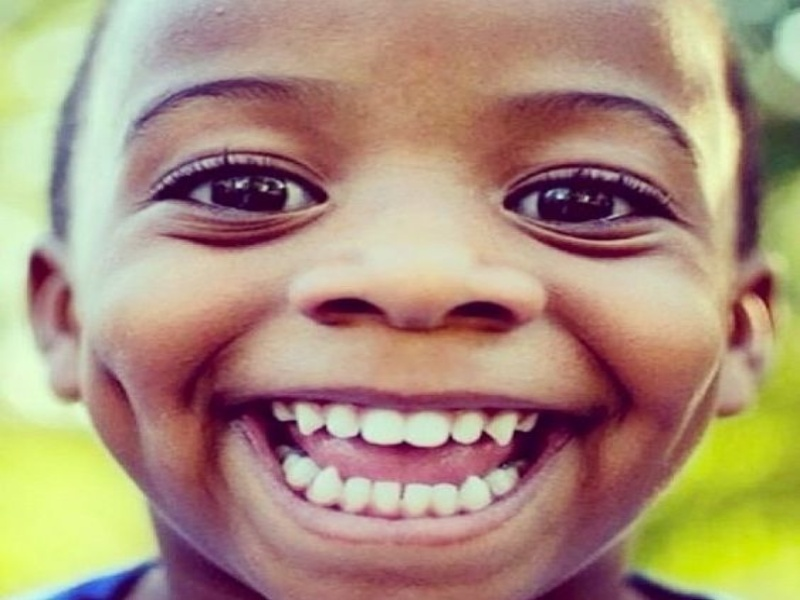face: (106, 16, 721, 550)
